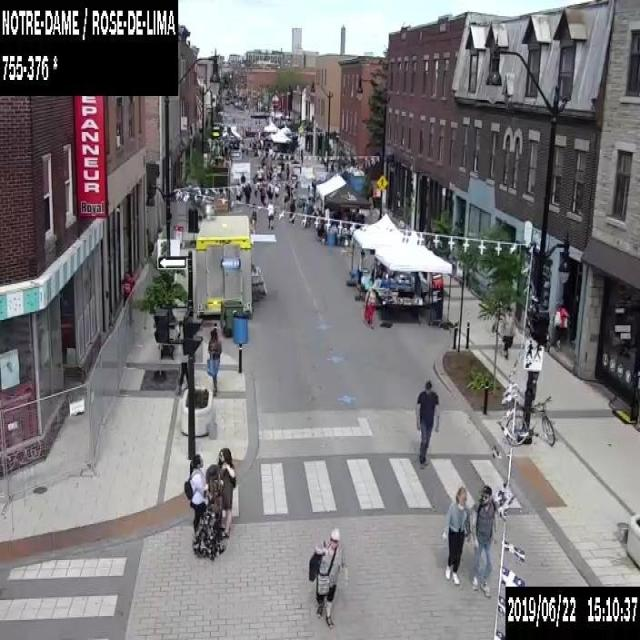pedestrian: (308, 528, 345, 626), (192, 462, 225, 556), (470, 484, 496, 597), (441, 486, 470, 585), (182, 454, 206, 553), (415, 379, 439, 468), (217, 446, 236, 538), (205, 327, 221, 396), (496, 309, 514, 359), (120, 271, 134, 326), (363, 284, 376, 328), (554, 308, 567, 352), (250, 201, 258, 233), (233, 182, 242, 206), (242, 182, 251, 206), (288, 198, 295, 224), (266, 199, 272, 229), (283, 182, 289, 210), (259, 184, 265, 207), (266, 184, 273, 202), (261, 161, 266, 179), (256, 165, 262, 179), (276, 162, 281, 178), (274, 182, 278, 202), (252, 181, 257, 197), (239, 171, 245, 182), (285, 162, 288, 181), (252, 172, 257, 182)
